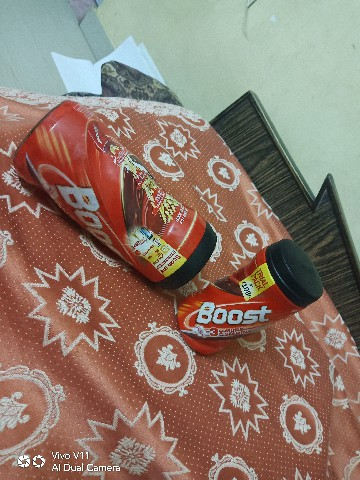boost big: (10, 97, 226, 290)
boost small: (178, 239, 343, 385)
